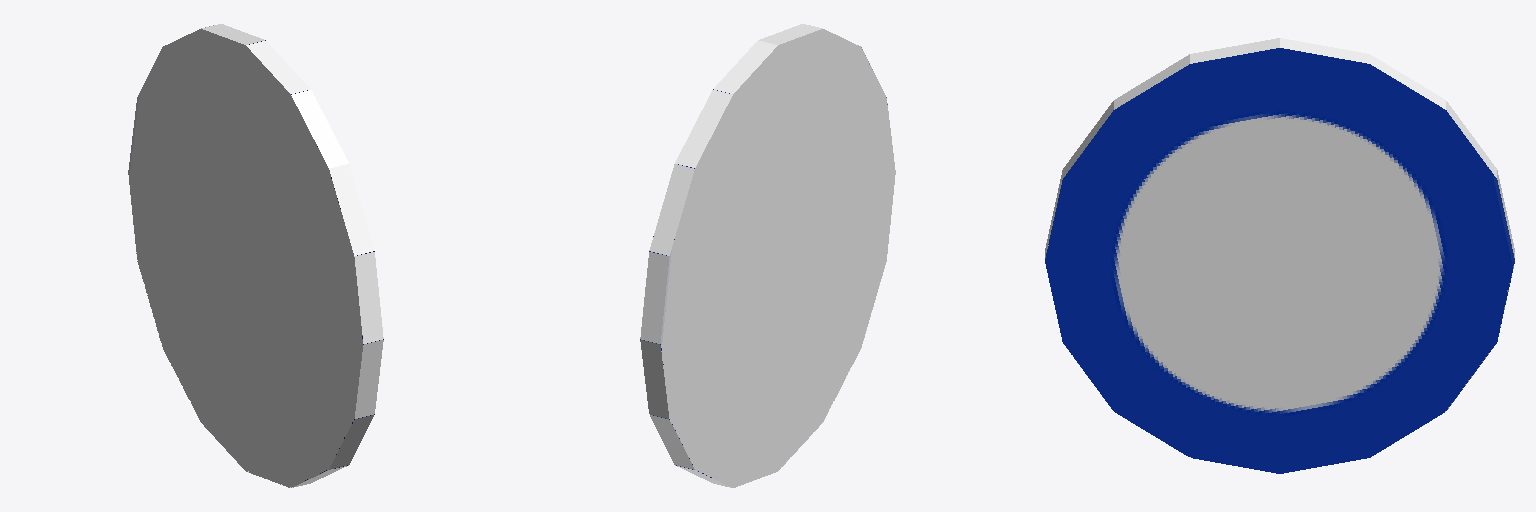
3 views of the same model, side by side, from view 1: azimuth 30°, elevation 25°; view 2: azimuth 150°, elevation 25°; view 3: azimuth 270°, elevation 25° (orthographic).
Visible parts, largest first — view 1: Circle; view 2: Circle; view 3: Circle.
Part boxes in pixels (x1,y1,x2,y2): Circle: (128,24,383,487); Circle: (640,24,895,487); Circle: (1045,38,1514,473).
Size of the model in its own units: 0.1 by 2 by 2.
1 materials, 1 textured.